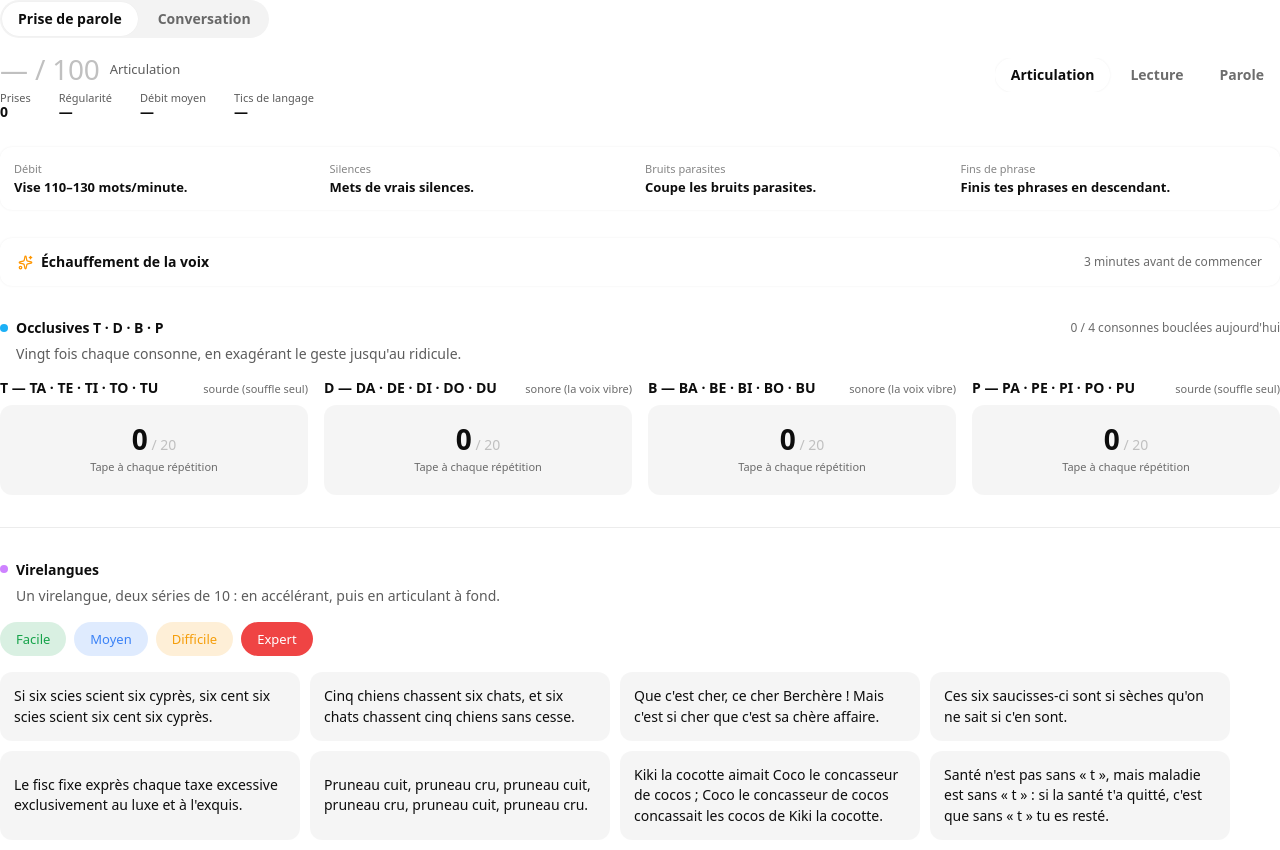
Page Éloquence › ouvre les virelangues sur le niveau expert, sans « Tous »
The image size is (1280, 850).
expect the text "Si six scies scient six cyprès, six cent six scies scient six cent six cyprès." is shown: met, box top-left (14, 686), bottom-right (286, 727)
expect the text "Un chasseur sachant chasser sait chasser sans son chien." is not shown: met
Click the button "Facile" at coordinates (33, 639), box top-left (0, 622), bottom-right (66, 656)
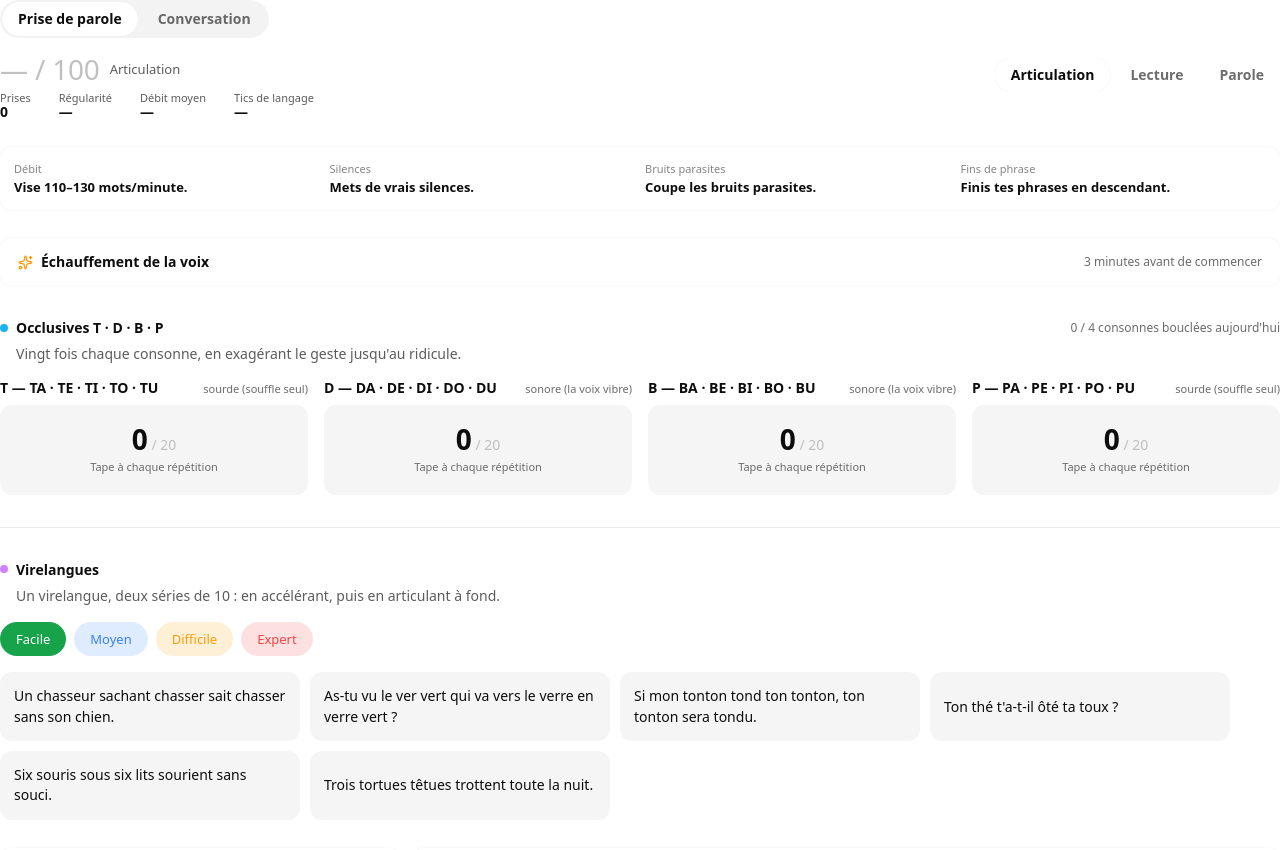
expect the text "Un chasseur sachant chasser sait chasser sans son chien." is shown: met, box top-left (14, 686), bottom-right (286, 727)
